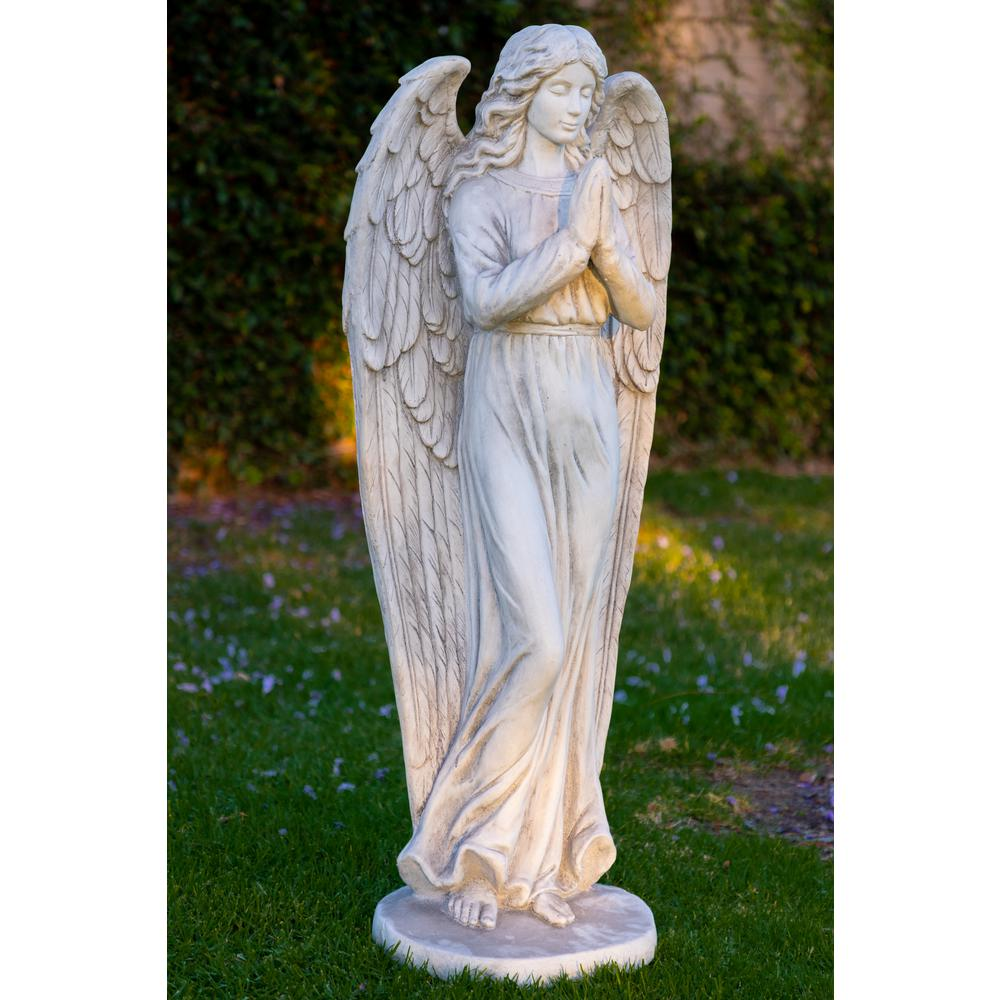person-like: (330, 18, 690, 936)
